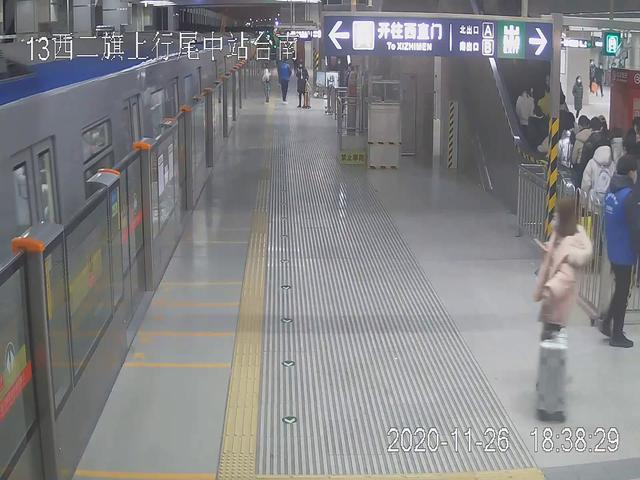person: (532, 195, 576, 420), (604, 153, 640, 349), (275, 53, 293, 107)
